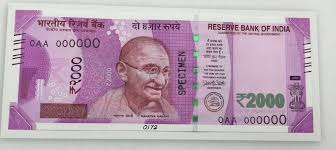twoThousand: (28, 34, 293, 114)
